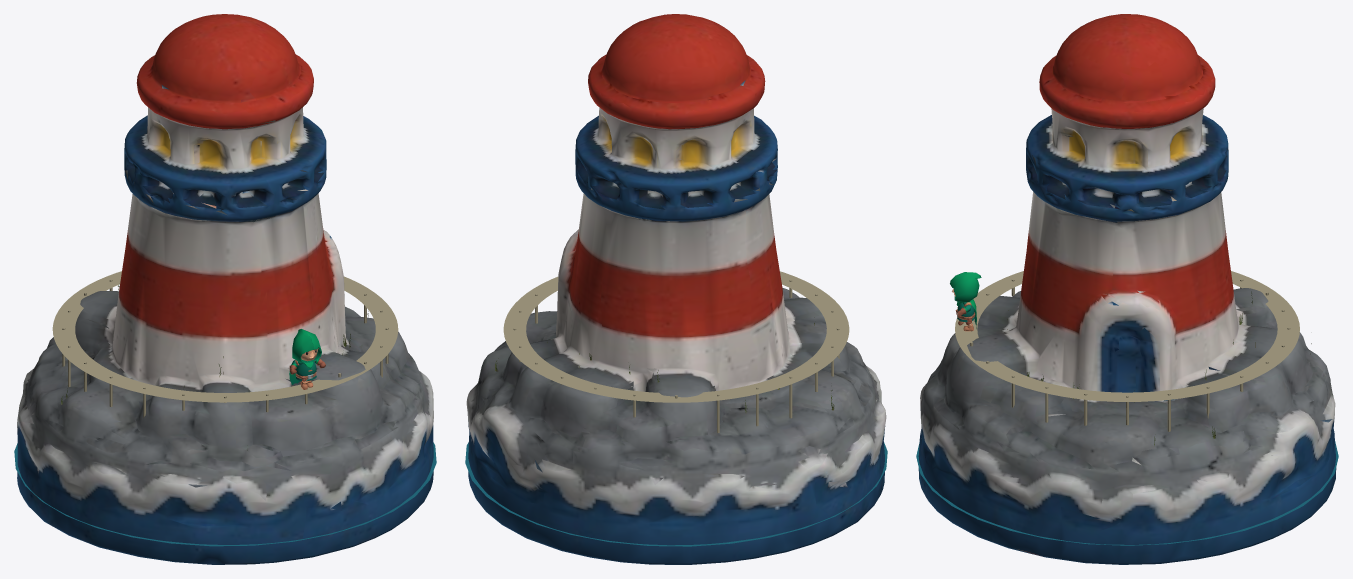
3 renders of one model, left to right at view 1: azimuth 30°, elevation 25°; view 2: azimuth 150°, elevation 25°; view 3: azimuth 270°, elevation 25°, orthographic.
Parts seen in each view (by area): view 1: Stormwatch repaired lighthouse and outcrop, Distant coastal scenery; view 2: Stormwatch repaired lighthouse and outcrop, Distant coastal scenery; view 3: Stormwatch repaired lighthouse and outcrop, Distant coastal scenery.
Boxes of the visible parts, x1=… form: Stormwatch repaired lighthouse and outcrop: x1=17, y1=14, x2=433, y2=564; Distant coastal scenery: x1=14, y1=271, x2=436, y2=546; Stormwatch repaired lighthouse and outcrop: x1=466, y1=14, x2=886, y2=564; Distant coastal scenery: x1=465, y1=271, x2=887, y2=546; Stormwatch repaired lighthouse and outcrop: x1=918, y1=14, x2=1336, y2=564; Distant coastal scenery: x1=916, y1=271, x2=1338, y2=545.
Bounding box in the file's own units: 11.68 × 13.86 × 11.68.
Materials: 2 (2 with a texture image).
